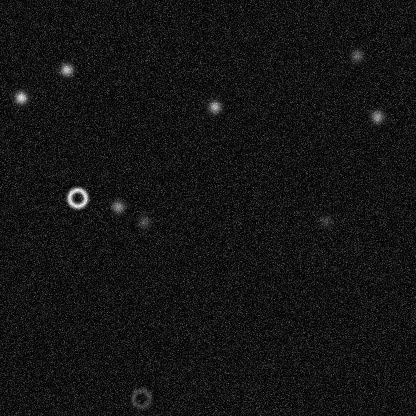Ring: (129, 386, 153, 410), (65, 185, 89, 209)
Spot: (136, 214, 152, 230), (348, 47, 364, 63), (109, 198, 125, 214), (369, 108, 385, 124), (206, 98, 222, 114), (12, 89, 28, 105), (317, 212, 333, 228), (58, 61, 74, 77)
